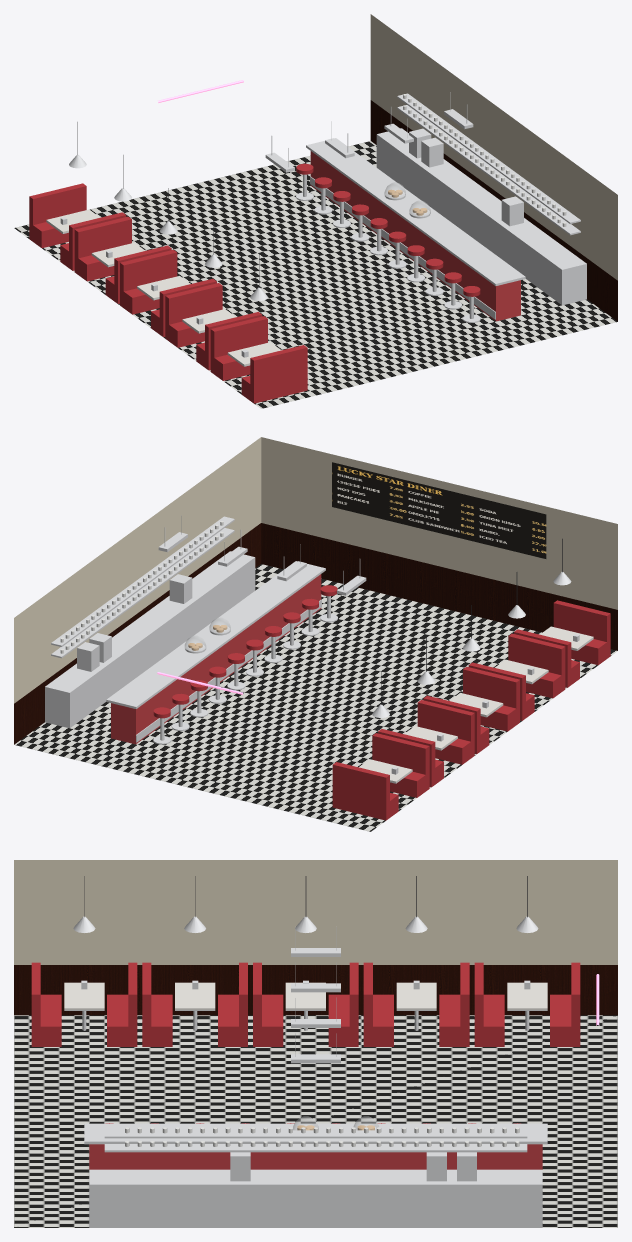
Rendered from lanchonete.gltf.
3 renders of one model, top to bottom at view 1: azimuth 30°, elevation 25°; view 2: azimuth 150°, elevation 25°; view 3: azimuth 270°, elevation 25°, orthographic. The views are drawn at different scales.
Visible parts, largest first — view 1: lanchonete_piso, lanchonete_cromo, lanchonete_estofado, lanchonete_parede, lanchonete_balcao, lanchonete_lambri, lanchonete_mesa, lanchonete_xicara, lanchonete_vidro; view 2: lanchonete_piso, lanchonete_parede, lanchonete_cromo, lanchonete_estofado, lanchonete_lambri, lanchonete_cardapio, lanchonete_balcao, lanchonete_mesa, lanchonete_xicara, lanchonete_vidro; view 3: lanchonete_piso, lanchonete_parede, lanchonete_cromo, lanchonete_estofado, lanchonete_lambri, lanchonete_balcao, lanchonete_mesa, lanchonete_xicara, lanchonete_vidro.
Boxes of the visible parts, box(x1,y1,x2,y2) form: lanchonete_piso: box(14, 141, 617, 408); lanchonete_cromo: box(46, 92, 586, 366); lanchonete_estofado: box(29, 163, 480, 403); lanchonete_parede: box(370, 14, 617, 280); lanchonete_balcao: box(310, 151, 520, 321); lanchonete_lambri: box(370, 100, 617, 321); lanchonete_mesa: box(46, 209, 281, 365); lanchonete_xicara: box(403, 94, 566, 226); lanchonete_vidro: box(384, 182, 430, 218); lanchonete_piso: box(14, 564, 617, 831); lanchonete_parede: box(14, 437, 617, 703); lanchonete_cromo: box(45, 515, 593, 783); lanchonete_estofado: box(153, 585, 610, 820); lanchonete_lambri: box(14, 523, 617, 744); lanchonete_cardapio: box(332, 462, 546, 558); lanchonete_balcao: box(111, 574, 321, 744); lanchonete_mesa: box(359, 626, 593, 782); lanchonete_xicara: box(60, 521, 223, 653); lanchonete_vidro: box(184, 617, 230, 653); lanchonete_piso: box(14, 1015, 617, 1227); lanchonete_parede: box(14, 860, 617, 964); lanchonete_cromo: box(64, 916, 547, 1227); lanchonete_estofado: box(31, 962, 580, 1123); lanchonete_lambri: box(14, 965, 617, 1015); lanchonete_balcao: box(89, 1144, 542, 1169); lanchonete_mesa: box(64, 982, 547, 1009); lanchonete_xicara: box(125, 1127, 519, 1146); lanchonete_vidro: box(293, 1116, 378, 1129).
Bounding box in the file's own units: 10 × 3.8 × 12.
15 materials, 3 textured.
